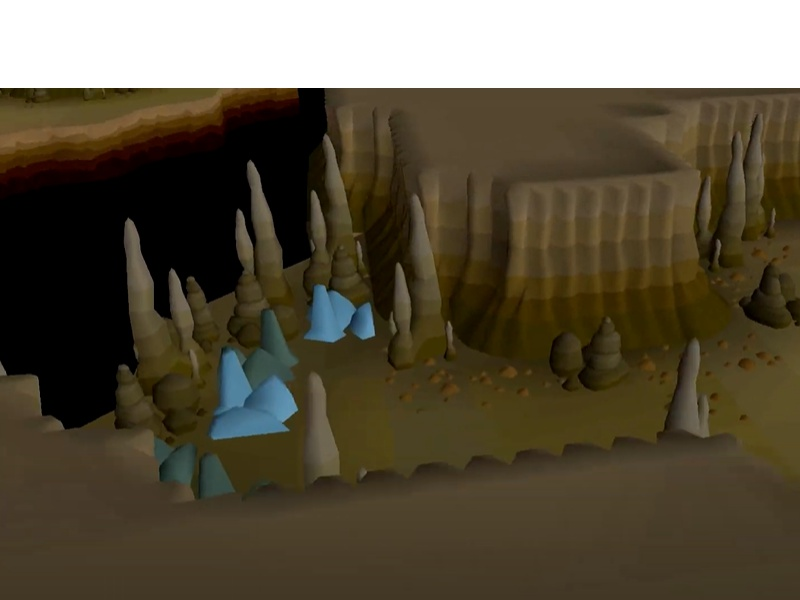adamant: (216, 305, 302, 390), (149, 437, 240, 501)
rune: (206, 347, 303, 442), (300, 282, 379, 347)
